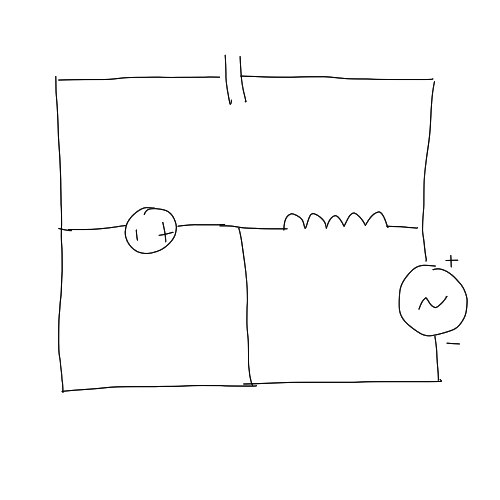acvs: (391, 255, 471, 348)
cap: (216, 49, 252, 108)
dcvs: (122, 201, 185, 258)
ind: (275, 207, 396, 238)
